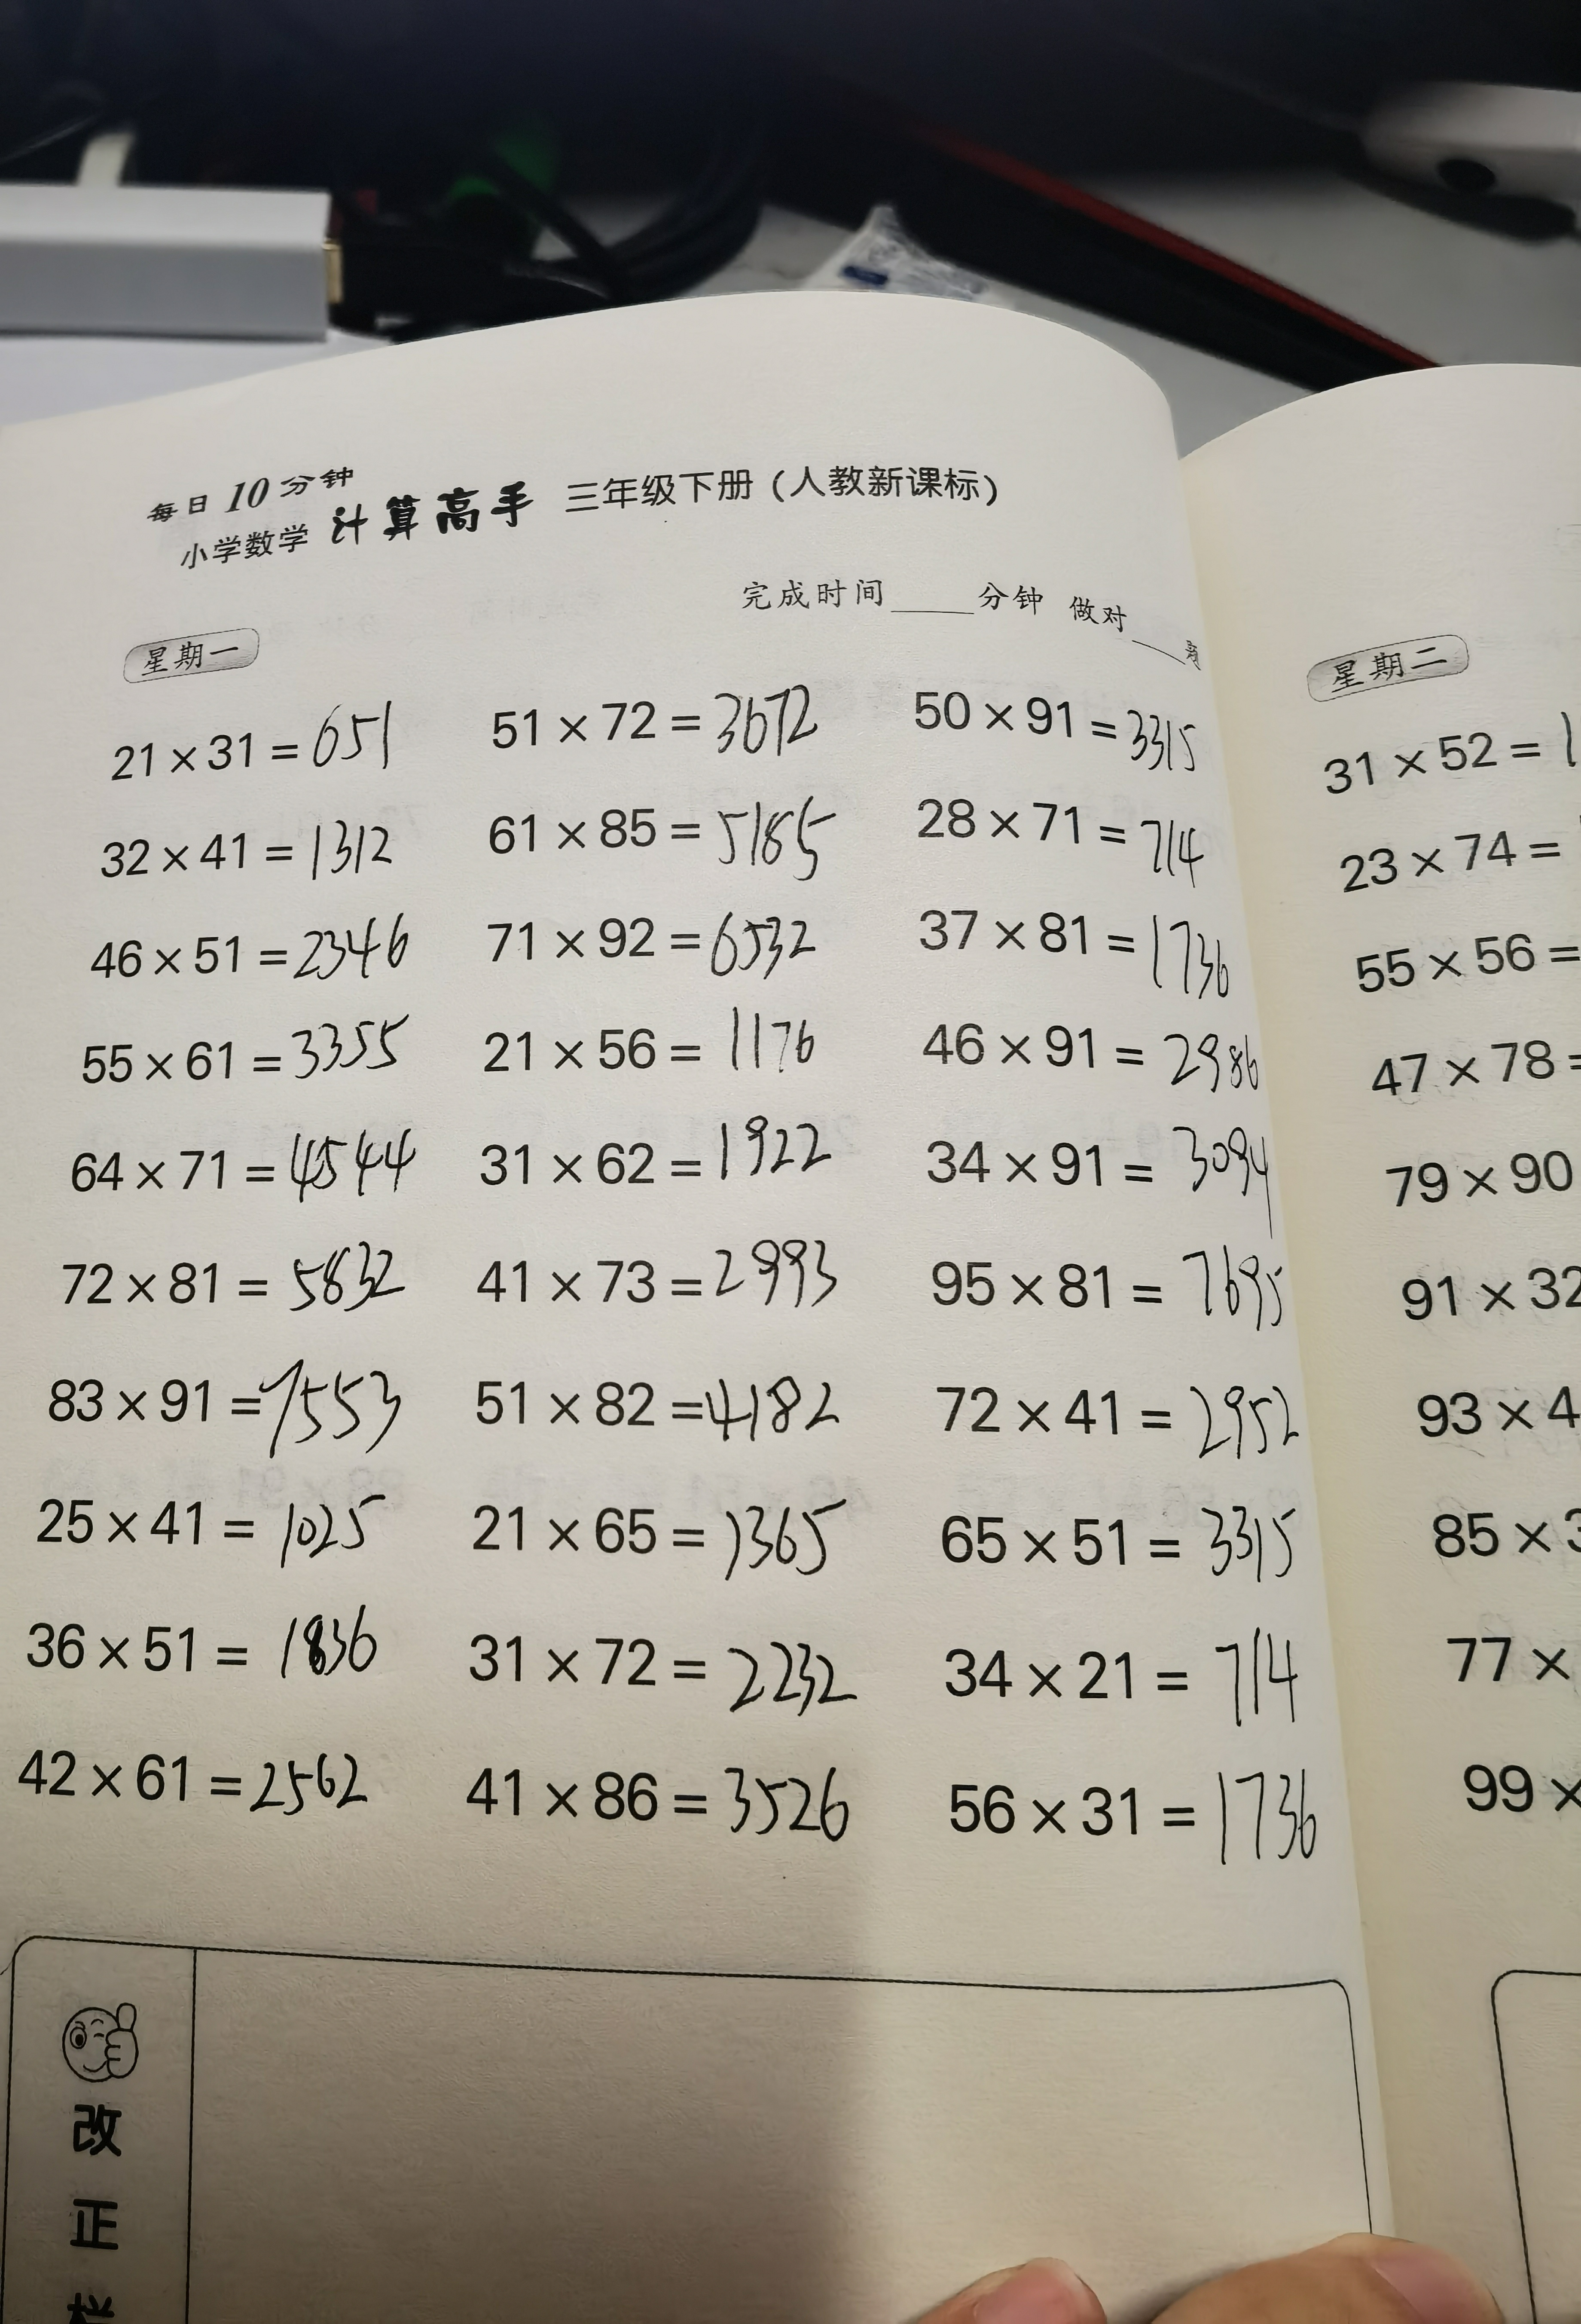equation: (448, 1595, 863, 1722), (949, 1749, 1346, 1872), (919, 1343, 1315, 1466), (411, 1740, 870, 1840), (450, 1364, 866, 1472), (916, 1225, 1332, 1332), (7, 1713, 393, 1828), (28, 1228, 438, 1336), (18, 1472, 422, 1579), (466, 1488, 870, 1595), (912, 644, 1223, 782), (464, 648, 842, 759), (944, 1491, 1322, 1597), (916, 1113, 1315, 1212), (933, 1616, 1309, 1719), (910, 891, 1270, 993), (921, 1004, 1290, 1101), (62, 1110, 423, 1209), (72, 999, 420, 1101), (7, 1602, 420, 1687), (471, 893, 838, 988), (44, 1361, 411, 1451), (74, 685, 409, 782), (485, 796, 849, 881), (459, 1001, 829, 1083), (462, 1248, 856, 1325), (907, 791, 1225, 884), (92, 907, 422, 997), (466, 1119, 850, 1195), (86, 798, 402, 888)
